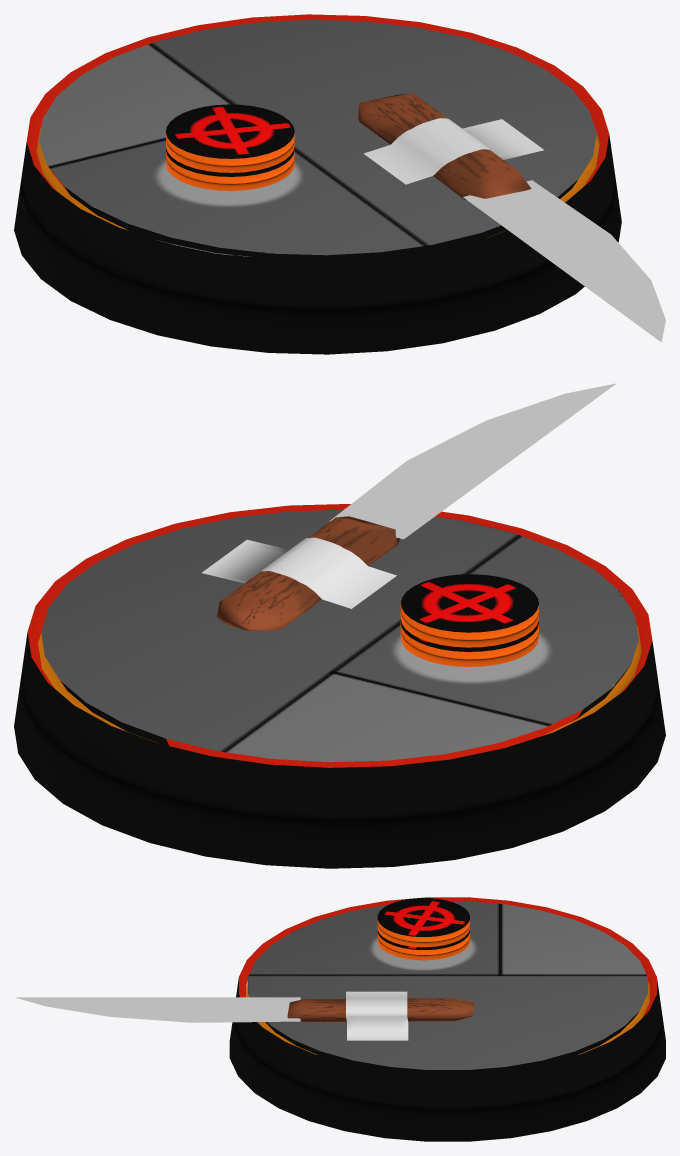
Rendered from roombye.glb.
3 renders of one model, top to bottom at view 1: azimuth 30°, elevation 25°; view 2: azimuth 150°, elevation 25°; view 3: azimuth 270°, elevation 25°, orthographic. The views are drawn at different scales.
Visible parts, largest first — view 1: body, blade, laser_sensor, Tape, Knife_handle; view 2: body, blade, laser_sensor, Tape, Knife_handle; view 3: body, blade, laser_sensor, Tape, Knife_handle.
Boxes of the visible parts, x1,y1,x2,y2 form: body: [14, 14, 621, 354]; blade: [463, 180, 665, 342]; laser_sensor: [166, 104, 294, 190]; Tape: [363, 118, 544, 184]; Knife_handle: [358, 93, 531, 200]; body: [14, 504, 665, 868]; blade: [329, 383, 616, 539]; laser_sensor: [400, 574, 538, 666]; Tape: [202, 537, 396, 608]; Knife_handle: [217, 516, 399, 630]; body: [229, 897, 665, 1141]; blade: [15, 997, 300, 1022]; laser_sensor: [377, 898, 469, 960]; Tape: [346, 991, 408, 1040]; Knife_handle: [287, 998, 474, 1021].
Bounding box in the file's own units: 3.04 × 0.7332 × 4.55.
Materials: 4 (3 with a texture image).
